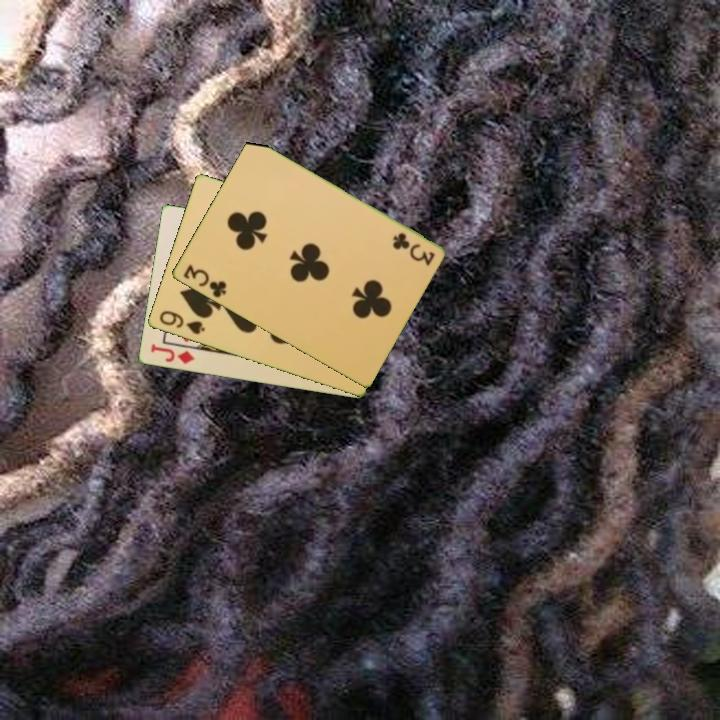3c: (179, 261, 229, 301), (389, 229, 437, 268)
9s: (155, 307, 207, 338)
Jd: (147, 341, 197, 367)
